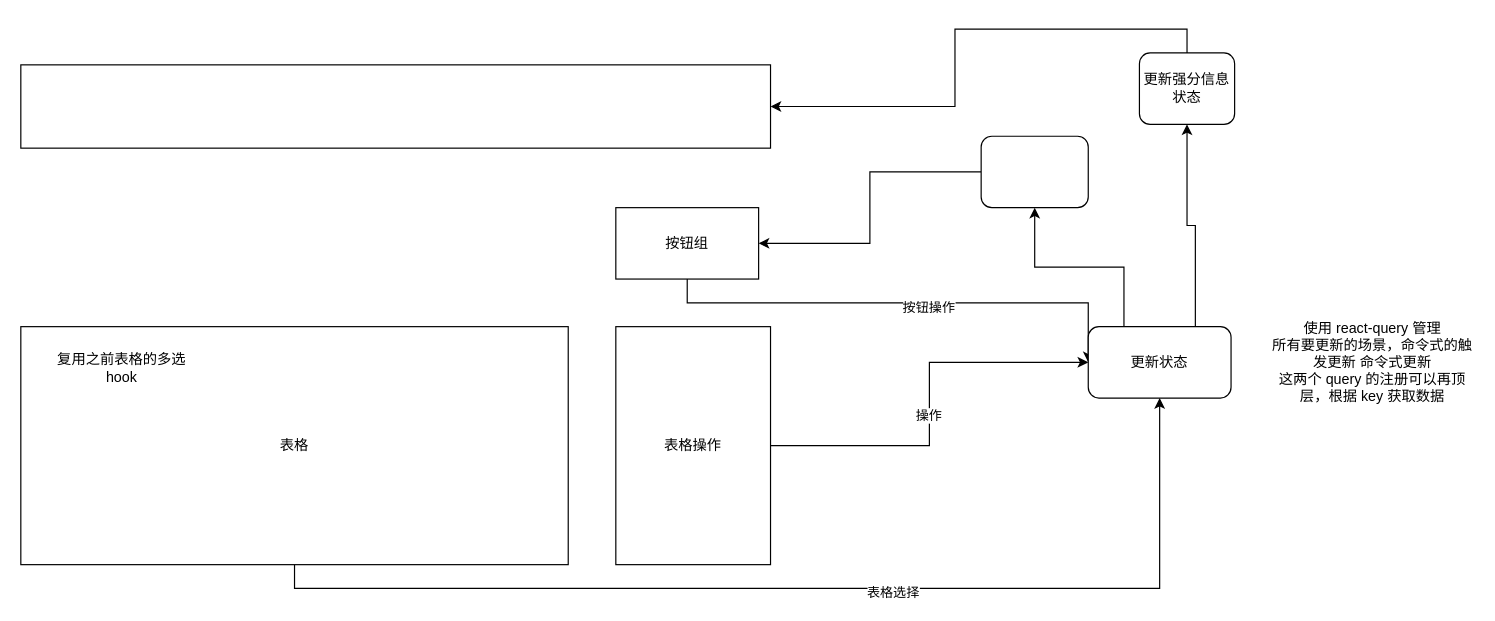
This 1495x621 diagram has some shape labels left out. Here are the shapes that lost their labels. From the top down, the centre of each, then its label:
the point at 395,106: 当前的强分信息
the point at 1034,171: 更新按钮状态
